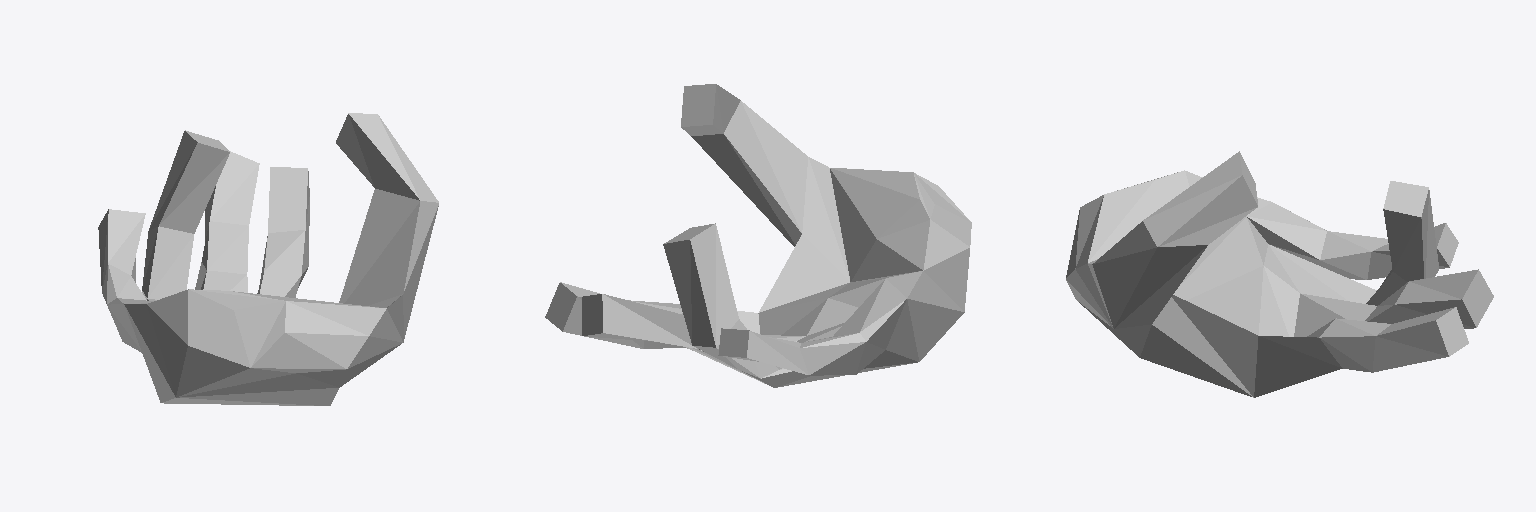
The model's file is OcarinaHand11.obj.
3 renders of one model, left to right at view 1: azimuth 30°, elevation 25°; view 2: azimuth 150°, elevation 25°; view 3: azimuth 270°, elevation 25°, orthographic.
Visible parts, largest first — view 1: Converted object 0; view 2: Converted object 0; view 3: Converted object 0.
Boxes of the visible parts, x1=… form: Converted object 0: x1=98, y1=113, x2=438, y2=405; Converted object 0: x1=545, y1=84, x2=971, y2=387; Converted object 0: x1=1066, y1=151, x2=1493, y2=397.
Bounding box in the file's own units: 4.29 × 4.14 × 5.75.